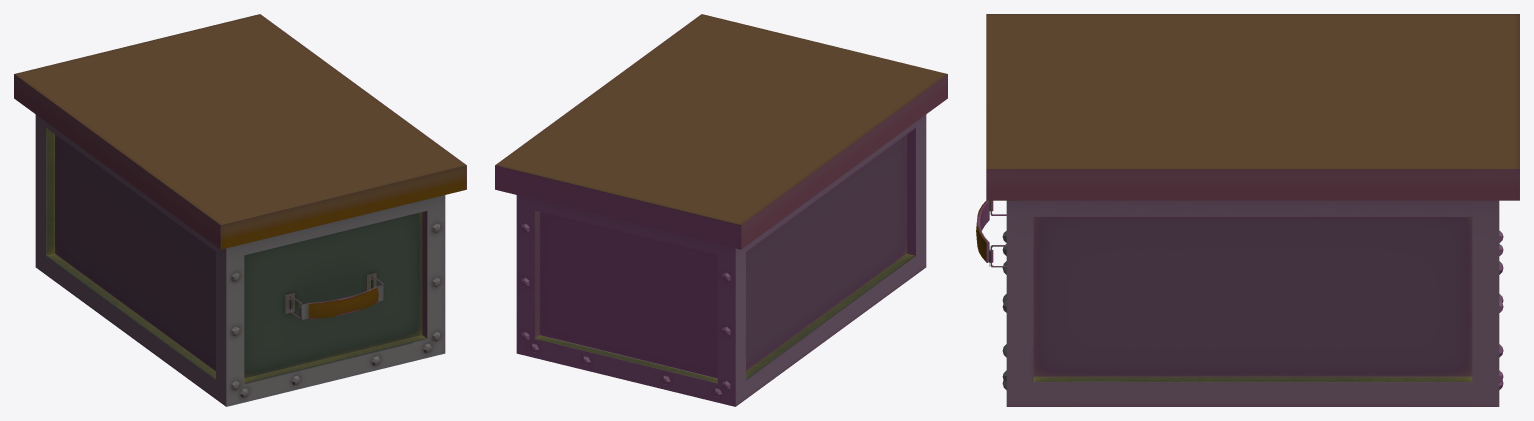
Rendered from Storage Box.fbx.
3 views of the same model, side by side, from view 1: azimuth 30°, elevation 25°; view 2: azimuth 150°, elevation 25°; view 3: azimuth 270°, elevation 25° (orthographic). The views are drawn at different scales.
Parts seen in each view (by area): view 1: Storage Box; view 2: Storage Box; view 3: Storage Box.
Part boxes in pixels (x1,y1,x2,y2): Storage Box: (14, 14, 466, 406); Storage Box: (495, 14, 947, 406); Storage Box: (976, 14, 1519, 406).
Size of the model in its own units: 27 by 20 by 40.
